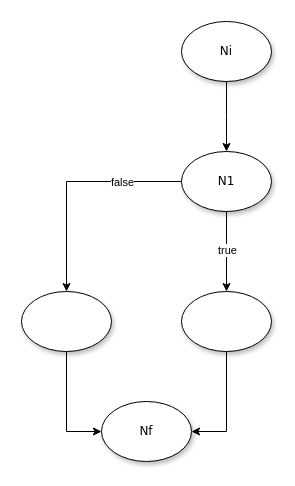
Some shapes in this 295 by 486 pixel diagram are drawn without their labels. The shapes that lost their labels are listed below. From the top down, each one's centre as x and y in pixels, then its label:
At [67,322]: "N7".
At [227,322]: "N2, N3, N4, N5, N6".
